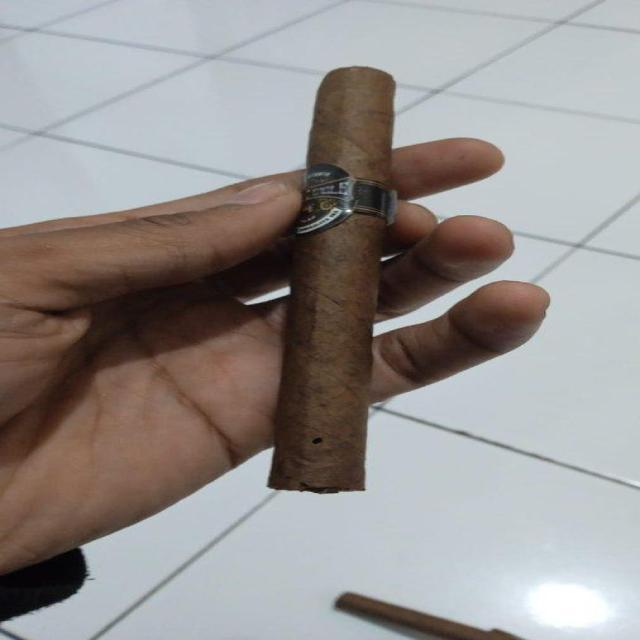rokok: (261, 58, 413, 510)
